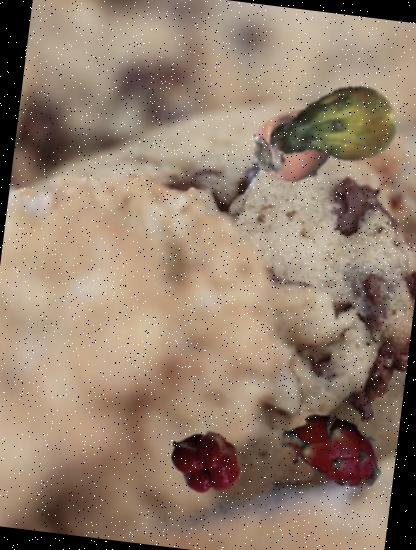Cactus: (261, 58, 408, 205)
Kaki: (241, 93, 348, 200)
Pepper: (164, 420, 248, 505)
Pitahaya: (274, 392, 392, 511)
